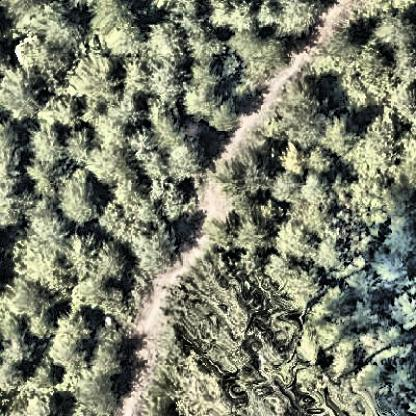tree-top: (13, 220, 69, 285), (213, 144, 273, 203), (88, 1, 147, 60), (62, 47, 122, 101), (275, 71, 330, 128), (133, 222, 187, 278), (57, 167, 106, 227), (242, 33, 298, 79), (273, 261, 326, 309), (75, 369, 129, 416), (50, 309, 96, 364), (1, 63, 45, 120), (21, 121, 69, 172), (143, 19, 192, 68), (2, 275, 50, 325), (83, 140, 134, 187), (91, 332, 137, 380), (144, 91, 190, 139), (89, 237, 133, 286), (42, 1, 91, 45), (163, 138, 211, 182), (319, 26, 365, 71), (39, 88, 85, 131), (231, 212, 275, 256), (142, 61, 190, 101), (273, 217, 317, 260), (17, 34, 61, 77), (275, 1, 324, 38), (372, 10, 416, 50), (63, 125, 99, 170), (203, 101, 244, 140), (155, 182, 192, 224), (359, 41, 398, 80), (322, 113, 359, 154), (325, 340, 361, 381), (270, 166, 306, 207), (393, 120, 416, 184), (276, 139, 314, 177), (374, 247, 415, 282), (220, 1, 259, 37), (317, 235, 356, 271), (386, 288, 416, 333), (114, 187, 154, 220), (2, 120, 23, 182), (138, 145, 174, 181), (25, 309, 62, 343), (306, 175, 338, 212), (1, 185, 26, 230), (303, 142, 337, 173), (386, 223, 416, 258), (388, 183, 416, 218), (29, 391, 68, 416), (97, 207, 127, 238), (218, 49, 245, 81), (1, 358, 26, 391), (1, 335, 28, 365), (7, 1, 38, 27), (257, 1, 283, 32)
